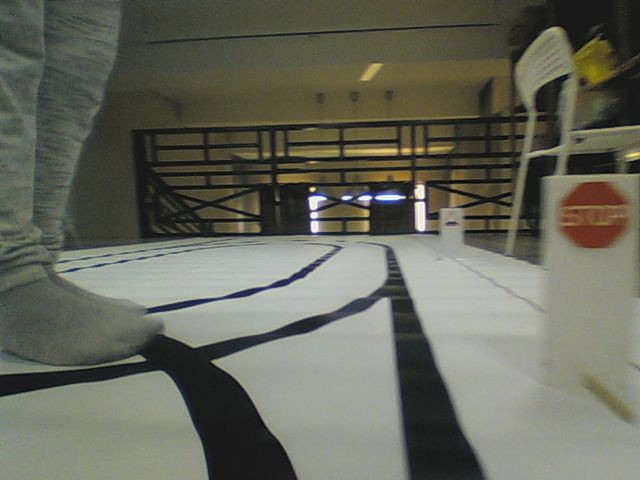Stop: (559, 180, 632, 249)
